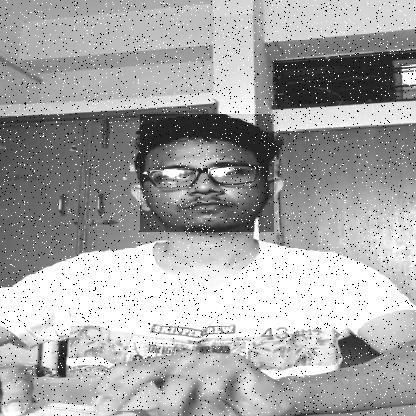Normal: (140, 115, 274, 233)
